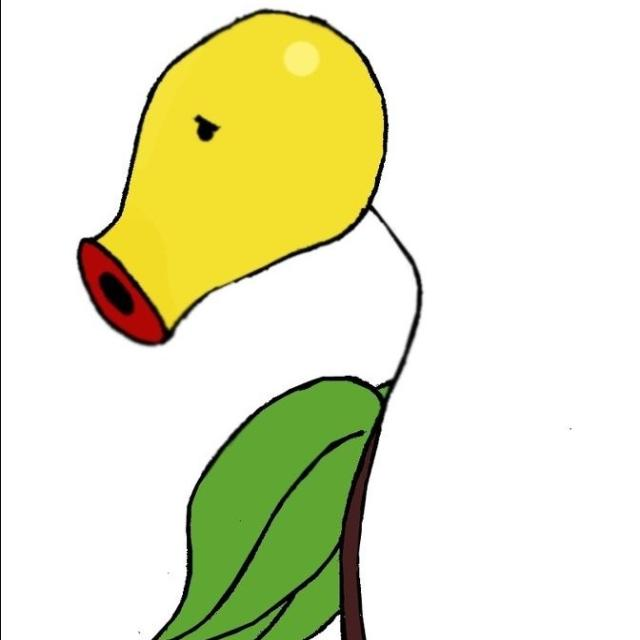Bellsprout: (73, 5, 434, 520)
